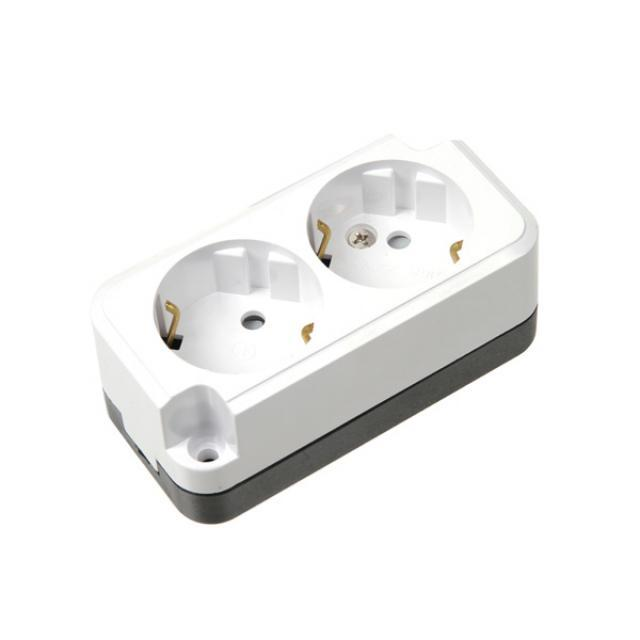typeb: (58, 110, 620, 532)
